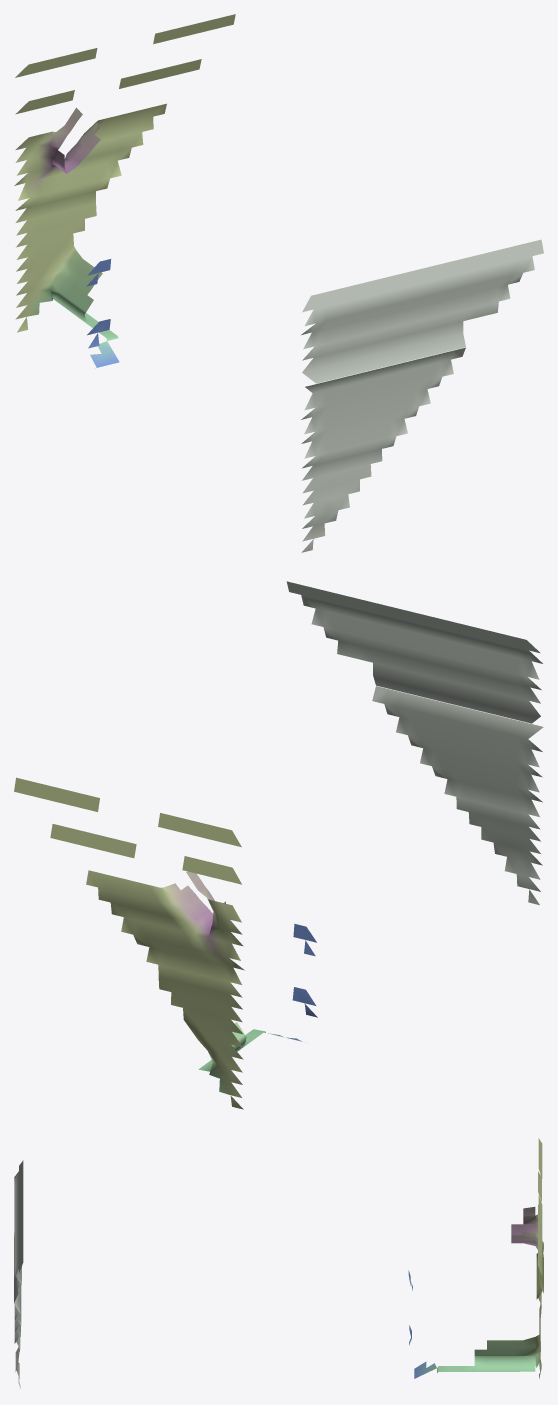
File: tile_7e4ccbd5fe0e_0_1_0_0_lod0.glb
The picture shows the model from 3 angles, top to bottom: view 1: azimuth 30°, elevation 25°; view 2: azimuth 150°, elevation 25°; view 3: azimuth 270°, elevation 25°; orthographic projection. The views are drawn at different scales.
Size of the model in its own units: 1.68 by 1.84 by 3.5.
